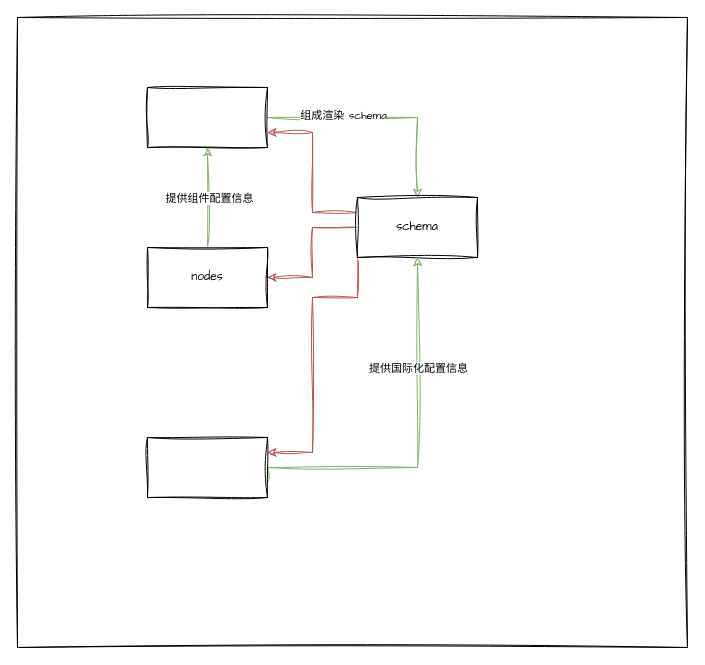
The diagram is 705 pixels wide and 665 high, and some of its shapes have lost their labels. The shapes that lost their labels are listed below. From the top down, each one's centre as x and y in pixels, then its label:
point (207, 117): id tree
point (207, 467): localizations
